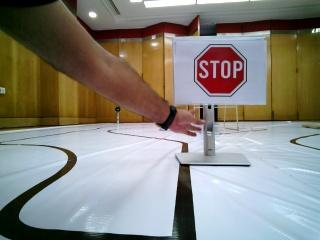stop: (173, 41, 266, 108)
